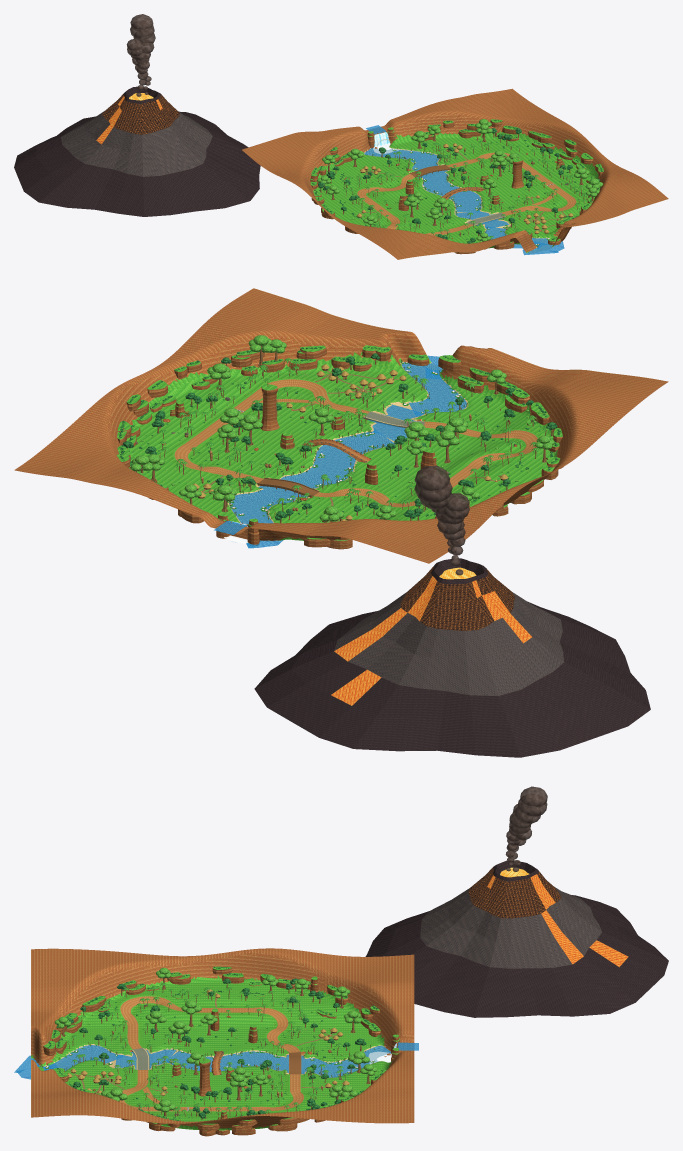
3 renders of one model, top to bottom at view 1: azimuth 30°, elevation 25°; view 2: azimuth 150°, elevation 25°; view 3: azimuth 270°, elevation 25°, orthographic. The views are drawn at different scales.
Visible parts, largest first — view 1: Valley, Far Volcano 0, River, Smoke Plume 0 80, River South, Road 06 road, Smoke Plume 0 80.001, Road 03 road, Road 01 road, River Ford; view 2: Valley, Far Volcano 0, River, Smoke Plume 0 80, River South, Road 06 road, Road 01 road, Road 04 road, Road 03 road, Smoke Plume 0 80.001, River Ford, Grand Pillar; view 3: Valley, Far Volcano 0, River, Smoke Plume 0 80, River South, Road 04 road, Road 03 road, Road 01 road, Road 06 road, River Ford.
Part boxes in pixels (x1=…): Valley: x1=242, y1=88, x2=668, y2=259; Far Volcano 0: x1=14, y1=86, x2=260, y2=216; River: x1=364, y1=148, x2=481, y2=212; Smoke Plume 0 80: x1=130, y1=14, x2=155, y2=96; River South: x1=485, y1=226, x2=564, y2=255; Road 06 road: x1=501, y1=183, x2=577, y2=215; Smoke Plume 0 80.001: x1=126, y1=38, x2=151, y2=94; Road 03 road: x1=356, y1=173, x2=414, y2=217; Road 01 road: x1=446, y1=152, x2=554, y2=185; River Ford: x1=455, y1=211, x2=509, y2=228; Valley: x1=14, y1=288, x2=668, y2=563; Far Volcano 0: x1=254, y1=558, x2=650, y2=757; River: x1=229, y1=430, x2=394, y2=548; Smoke Plume 0 80: x1=414, y1=465, x2=465, y2=575; River South: x1=402, y1=355, x2=466, y2=416; Road 06 road: x1=233, y1=378, x2=370, y2=416; Road 01 road: x1=173, y1=410, x2=264, y2=484; Road 04 road: x1=423, y1=421, x2=538, y2=468; Road 03 road: x1=313, y1=465, x2=479, y2=507; Smoke Plume 0 80.001: x1=441, y1=493, x2=469, y2=565; River Ford: x1=364, y1=404, x2=424, y2=441; Grand Pillar: x1=260, y1=384, x2=279, y2=430; Valley: x1=31, y1=948, x2=414, y2=1130; Far Volcano 0: x1=365, y1=860, x2=668, y2=1017; River: x1=168, y1=1045, x2=390, y2=1077; Smoke Plume 0 80: x1=506, y1=786, x2=547, y2=871; River South: x1=14, y1=1045, x2=122, y2=1079; Road 04 road: x1=119, y1=995, x2=197, y2=1049; Road 03 road: x1=197, y1=1007, x2=301, y2=1053; Road 01 road: x1=188, y1=1074, x2=304, y2=1111; Road 06 road: x1=119, y1=1070, x2=188, y2=1111; River Ford: x1=115, y1=1049, x2=176, y2=1069.
Bounding box in the file's own units: 820 × 252 × 854.
44 materials, 44 textured.
